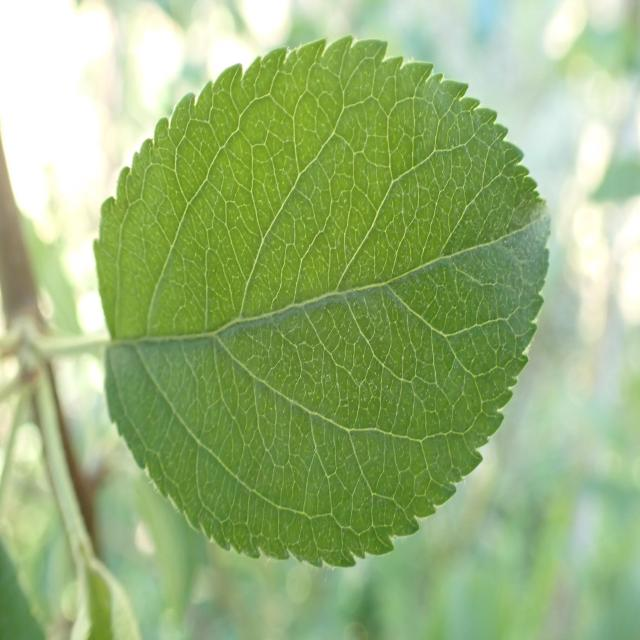healthy: (92, 34, 550, 570)
